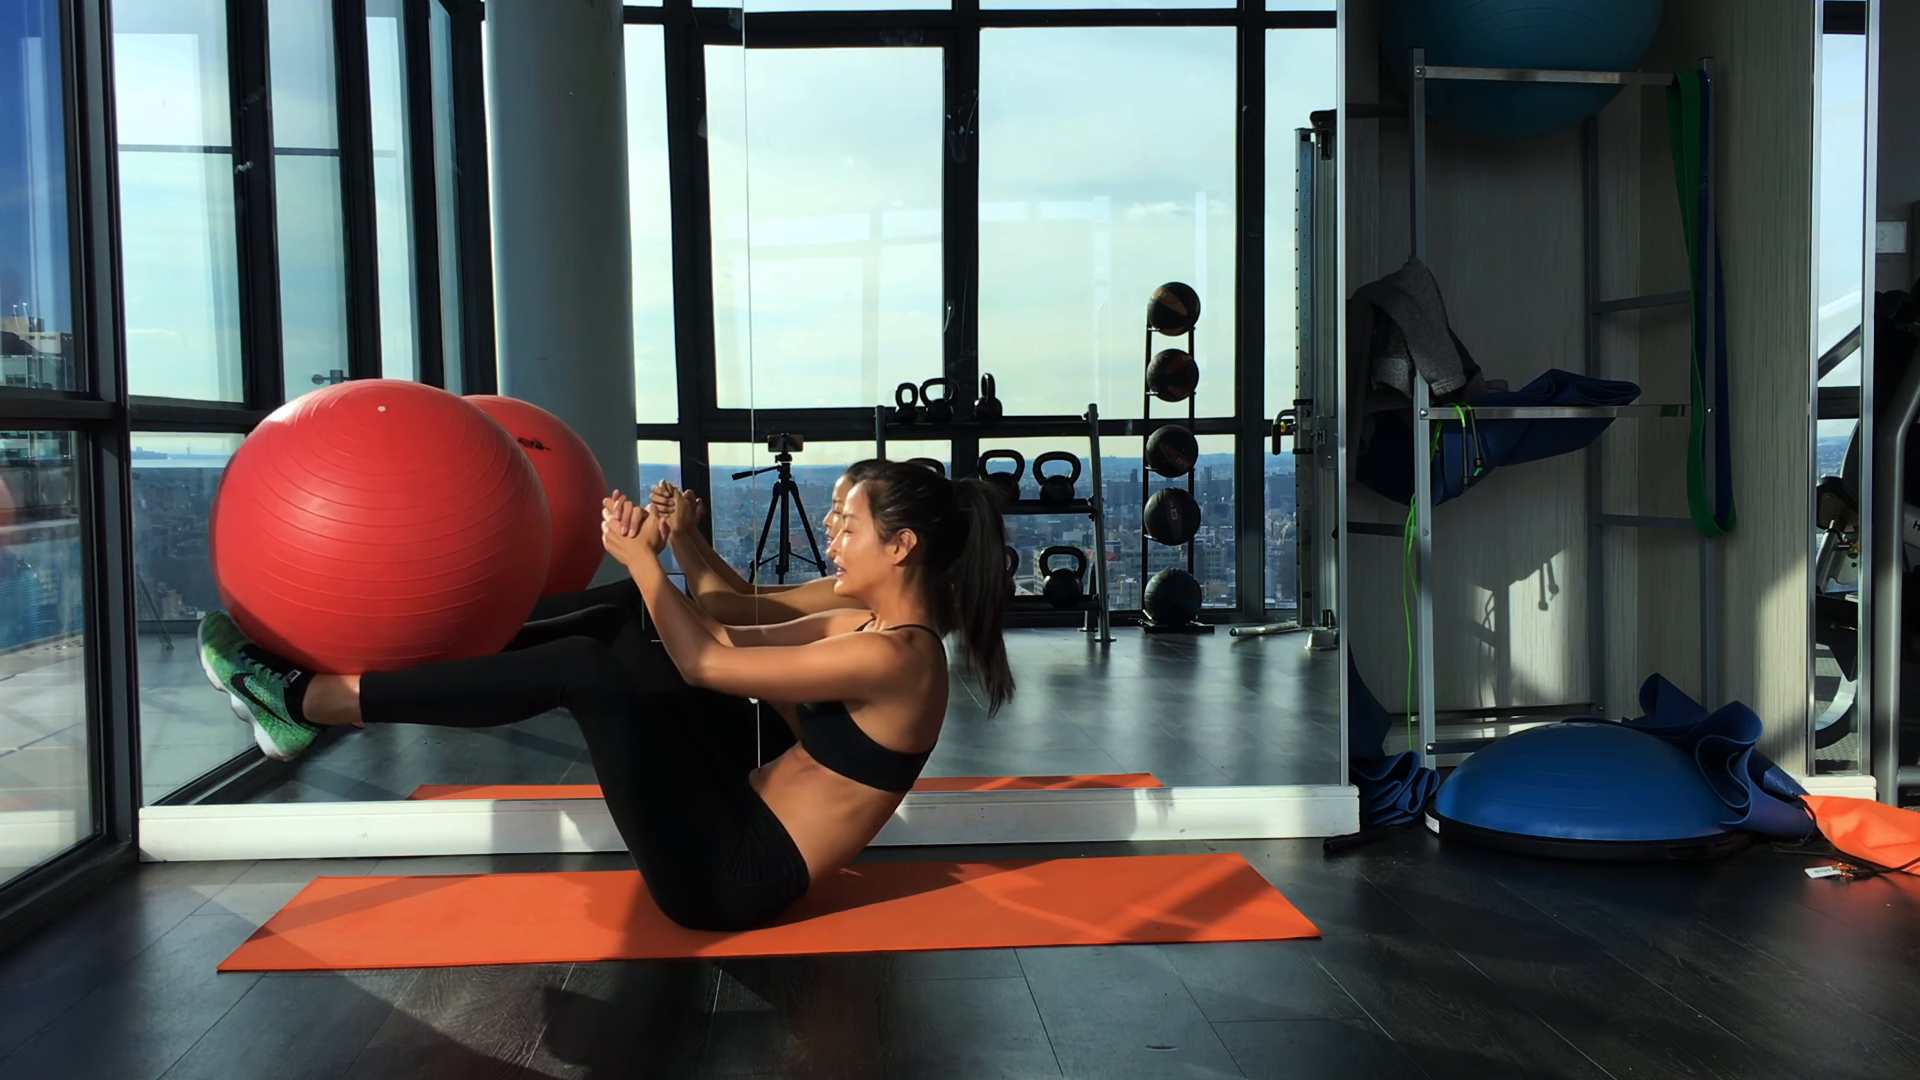yogaball: (195, 368, 562, 688)
